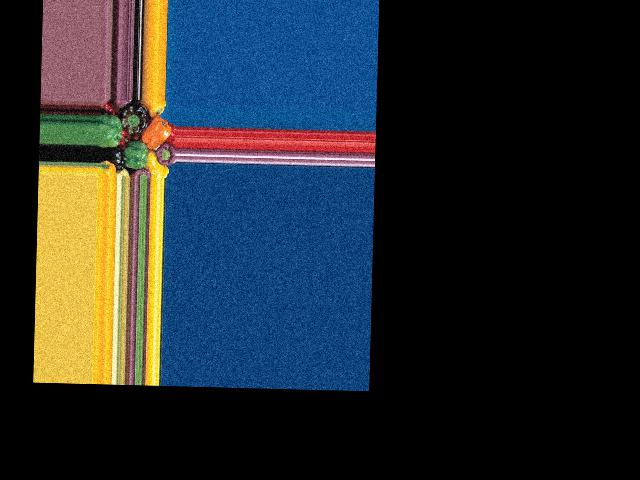bell_pepper: (97, 112, 120, 146)
